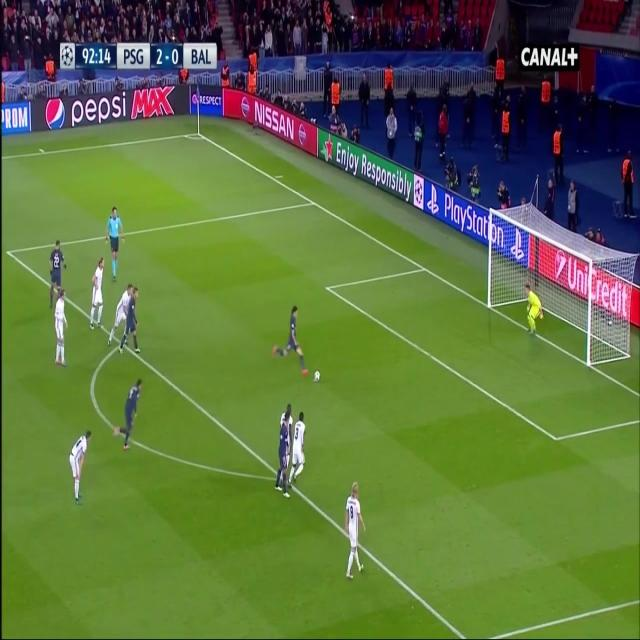Ball: (314, 368, 321, 384)
Goalkeeper: (524, 278, 545, 337)
Player: (270, 303, 309, 380), (112, 375, 144, 452), (344, 478, 366, 584), (67, 426, 95, 504), (285, 409, 308, 490), (117, 284, 141, 356), (46, 237, 69, 310), (106, 284, 132, 348), (273, 413, 291, 501), (86, 256, 106, 334), (54, 286, 70, 370)
Referee: (104, 203, 125, 285)
